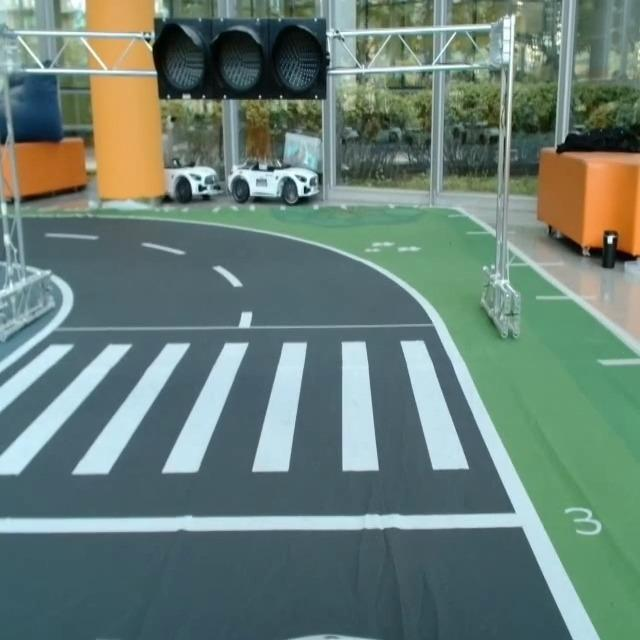traffic-light: (154, 19, 330, 103)
